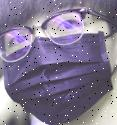with_mask: (1, 1, 117, 125)
